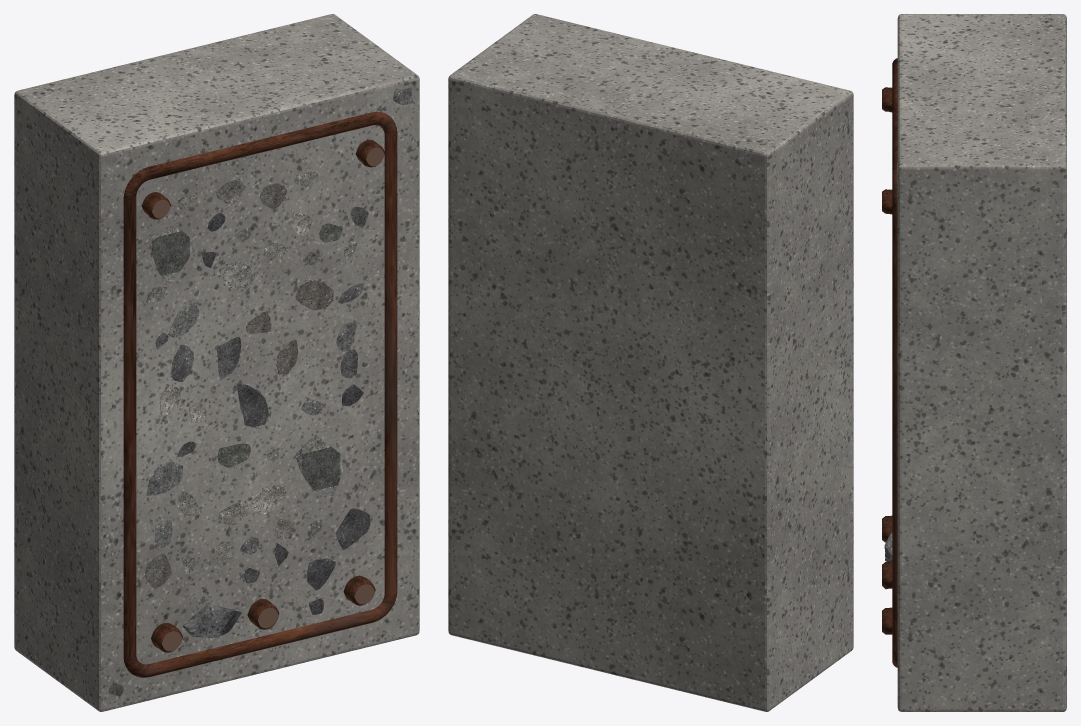
Rendered from rcc-beam.glb.
3 views of the same model, side by side, from view 1: azimuth 30°, elevation 25°; view 2: azimuth 150°, elevation 25°; view 3: azimuth 270°, elevation 25° (orthographic). The views are drawn at different scales.
Visible parts, largest first — view 1: Concrete, AggregateSections, Stirrup, AggregateHighlight, Rebar_02, Rebar_01, Rebar_03; view 2: Concrete; view 3: Concrete, Stirrup.
Part boxes in pixels (x1,y1,x2,y2): Concrete: [14, 14, 419, 711]; AggregateSections: [108, 88, 412, 696]; Stirrup: [123, 111, 397, 677]; AggregateHighlight: [183, 604, 241, 637]; Rebar_02: [247, 598, 279, 629]; Rebar_01: [151, 623, 182, 652]; Rebar_03: [343, 575, 375, 605]; Concrete: [448, 14, 853, 711]; Concrete: [897, 14, 1066, 711]; Stirrup: [892, 58, 897, 667].
Bounding box in the file's own units: 0.15 × 0.25 × 0.0765.
Materials: 5 (4 with a texture image).
